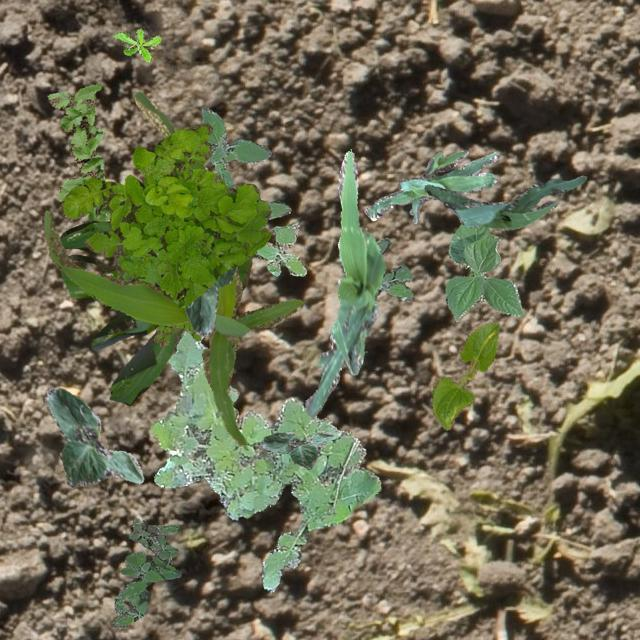crop: (40, 90, 302, 444), (58, 220, 266, 404), (304, 148, 384, 416), (42, 386, 142, 486), (364, 148, 498, 222), (424, 174, 586, 228), (444, 222, 524, 320), (431, 321, 498, 428), (183, 264, 236, 336), (260, 429, 334, 468)
weed: (150, 330, 380, 590), (59, 121, 270, 306), (200, 106, 290, 218), (46, 82, 110, 222), (110, 518, 180, 626), (253, 220, 306, 276), (372, 236, 412, 302), (114, 28, 160, 61), (153, 321, 200, 346)
